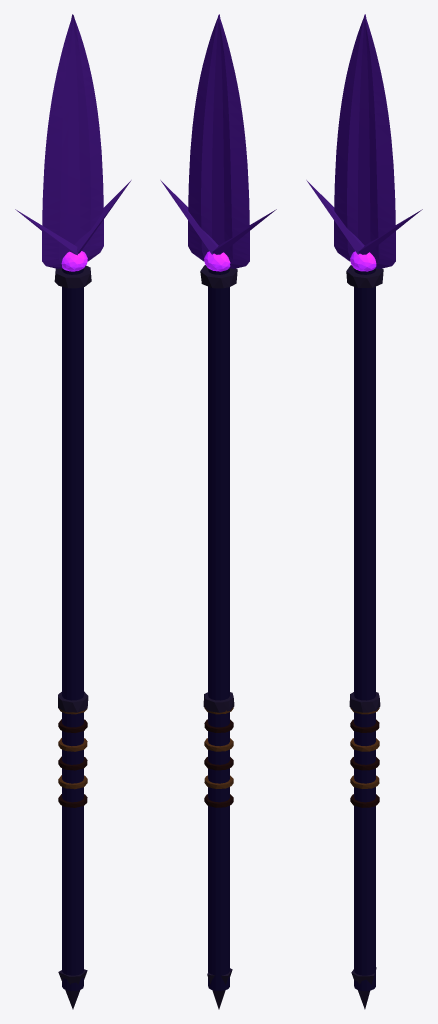
File: spear_6.glb
The picture shows the model from 3 angles, left to right: view 1: azimuth 30°, elevation 25°; view 2: azimuth 150°, elevation 25°; view 3: azimuth 330°, elevation 25°; orthographic projection.
Visible parts, largest first — view 1: part_01, part_11, part_09, part_13, part_10, part_14, part_08, part_12; view 2: part_01, part_11, part_09, part_13, part_10, part_14, part_12; view 3: part_01, part_11, part_09, part_12, part_10, part_14, part_13, part_08.
Part boxes in pixels (x1,y1,x2,y2): part_01: (62, 268, 83, 991); part_11: (42, 14, 103, 268); part_09: (54, 265, 91, 288); part_13: (74, 180, 131, 253); part_10: (58, 691, 88, 712); part_14: (61, 251, 87, 271); part_08: (58, 969, 87, 1009); part_12: (15, 209, 77, 255); part_01: (208, 268, 229, 991); part_11: (188, 14, 249, 268); part_09: (200, 265, 237, 288); part_13: (160, 180, 218, 254); part_10: (203, 692, 234, 712); part_14: (204, 251, 230, 271); part_12: (212, 209, 276, 254); part_01: (354, 268, 375, 991); part_11: (334, 14, 395, 268); part_09: (346, 265, 383, 287); part_12: (306, 180, 364, 254); part_10: (349, 692, 380, 712); part_14: (350, 251, 376, 271); part_13: (358, 209, 422, 254); part_08: (351, 967, 376, 1009).
Size of the model in its own units: 0.2379 by 1.92 by 0.0648.
